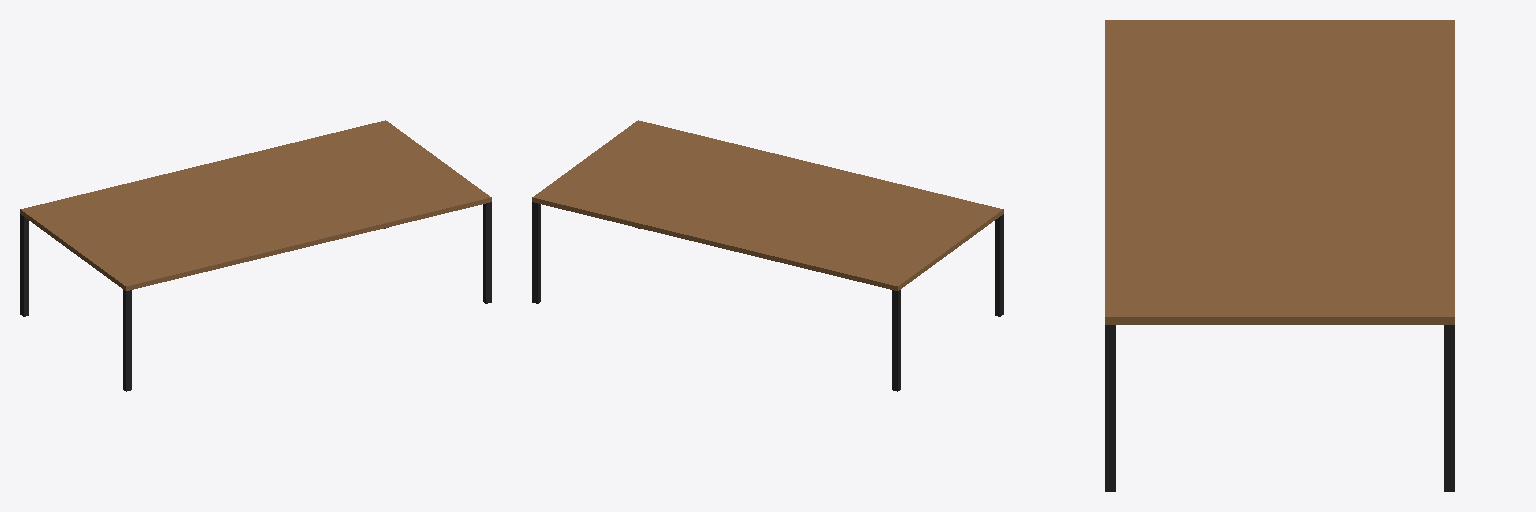
The robot description file, URDF, robot "big_table":
<?xml version="1.0"?>
<robot name="big_table">
  <!-- Outer dimensions: width=3.20, depth=1.60, height=0.88 -->

  <material name="TableTop">
    <color rgba="0.60 0.45 0.30 1.0"/>
  </material>
  <material name="TableLeg">
    <color rgba="0.20 0.20 0.20 1.0"/>
  </material>

  <link name="base_link">
    <inertial>
      <origin xyz="0 0 0" rpy="0 0 0"/>
      <mass value="0.1"/>
      <inertia ixx="1e-4" ixy="0" ixz="0" iyy="1e-4" iyz="0" izz="1e-4"/>
    </inertial>
  </link>

  <link name="tabletop">
    <inertial>
      <origin xyz="0 0 0" rpy="0 0 0"/>
      <mass value="40.0"/>
      <inertia ixx="8.5387" ixy="0" ixz="0" iyy="34.1387" iyz="0" izz="42.6667"/>
    </inertial>
    <visual>
      <origin xyz="0 0 0" rpy="0 0 0"/>
      <geometry><box size="3.20 1.60 0.04"/></geometry>
      <material name="TableTop"/>
    </visual>
    <collision>
      <origin xyz="0 0 0" rpy="0 0 0"/>
      <geometry><box size="3.20 1.60 0.04"/></geometry>
    </collision>
  </link>
  <joint name="tabletop_joint" type="fixed">
    <parent link="base_link"/><child link="tabletop"/>
    <origin xyz="0 0 0.86" rpy="0 0 0"/>
  </joint>

  <link name="leg_fl">
    <inertial><origin xyz="0 0 0"/><mass value="2.0"/><inertia ixx="0.02" ixy="0" ixz="0" iyy="0.02" iyz="0" izz="0.02"/></inertial>
    <visual><geometry><box size="0.05 0.05 0.84"/></geometry><material name="TableLeg"/></visual>
    <collision><geometry><box size="0.05 0.05 0.84"/></geometry></collision>
  </link>
  <joint name="leg_fl_joint" type="fixed"><parent link="base_link"/><child link="leg_fl"/><origin xyz="1.575 0.775 0.42"/></joint>

  <link name="leg_fr">
    <inertial><origin xyz="0 0 0"/><mass value="2.0"/><inertia ixx="0.02" ixy="0" ixz="0" iyy="0.02" iyz="0" izz="0.02"/></inertial>
    <visual><geometry><box size="0.05 0.05 0.84"/></geometry><material name="TableLeg"/></visual>
    <collision><geometry><box size="0.05 0.05 0.84"/></geometry></collision>
  </link>
  <joint name="leg_fr_joint" type="fixed"><parent link="base_link"/><child link="leg_fr"/><origin xyz="1.575 -0.775 0.42"/></joint>

  <link name="leg_rl">
    <inertial><origin xyz="0 0 0"/><mass value="2.0"/><inertia ixx="0.02" ixy="0" ixz="0" iyy="0.02" iyz="0" izz="0.02"/></inertial>
    <visual><geometry><box size="0.05 0.05 0.84"/></geometry><material name="TableLeg"/></visual>
    <collision><geometry><box size="0.05 0.05 0.84"/></geometry></collision>
  </link>
  <joint name="leg_rl_joint" type="fixed"><parent link="base_link"/><child link="leg_rl"/><origin xyz="-1.575 0.775 0.42"/></joint>

  <link name="leg_rr">
    <inertial><origin xyz="0 0 0"/><mass value="2.0"/><inertia ixx="0.02" ixy="0" ixz="0" iyy="0.02" iyz="0" izz="0.02"/></inertial>
    <visual><geometry><box size="0.05 0.05 0.84"/></geometry><material name="TableLeg"/></visual>
    <collision><geometry><box size="0.05 0.05 0.84"/></geometry></collision>
  </link>
  <joint name="leg_rr_joint" type="fixed"><parent link="base_link"/><child link="leg_rr"/><origin xyz="-1.575 -0.775 0.42"/></joint>
</robot>

--- What the picture shows (computed from the rendered views, not written in the file) ---
The picture shows the robot from 3 angles, left to right: view 1: azimuth 30°, elevation 25°; view 2: azimuth 150°, elevation 25°; view 3: azimuth 270°, elevation 25°; orthographic projection.
Robot: big_table — 6 links, 5 joints (5 fixed); root link base_link; default pose: all joints at 0.
Links seen in each view (by area): view 1: tabletop, leg_rr, leg_fr, leg_rl; view 2: tabletop, leg_rl, leg_fl, leg_rr; view 3: tabletop, leg_fl, leg_fr.
Link boxes in pixels (bbox=[...]): tabletop: bbox=[20, 120, 491, 290]; leg_rr: bbox=[123, 290, 131, 391]; leg_fr: bbox=[483, 202, 491, 303]; leg_rl: bbox=[20, 214, 28, 316]; tabletop: bbox=[532, 120, 1003, 290]; leg_rl: bbox=[892, 290, 900, 391]; leg_fl: bbox=[532, 202, 540, 303]; leg_rr: bbox=[995, 214, 1003, 316]; tabletop: bbox=[1105, 20, 1454, 324]; leg_fl: bbox=[1444, 325, 1454, 491]; leg_fr: bbox=[1105, 325, 1115, 491].
Size in the robot's own frame: 3.2 by 1.6 by 0.88 metres.
Geometry: primitives only (box / cylinder / sphere), no mesh files.
